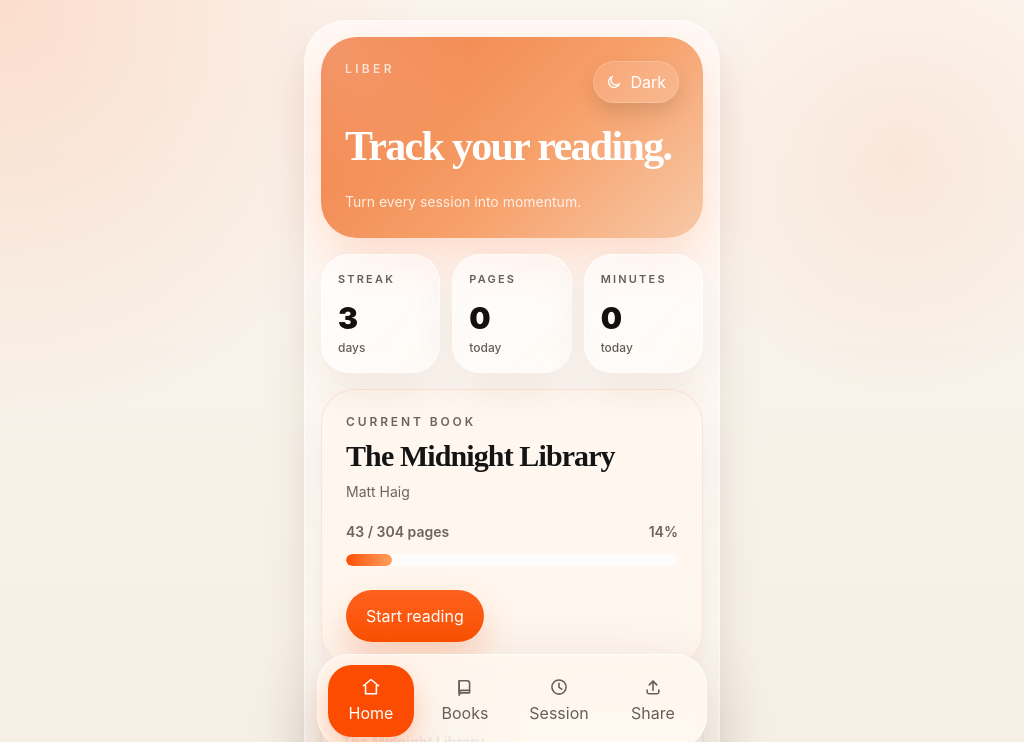
LiberApp core flow › shows the premium home hero subtitle and keeps summary stats on home only
Expected: the text "Turn every session into momentum." is shown, [345, 190, 605, 214]
Expected: the text "Streak" is shown, [338, 272, 395, 286]
What coordinates should you click on to do the following:
click the button "Books"
I would click on:
 (465, 701)
Its box is [422, 665, 508, 737].
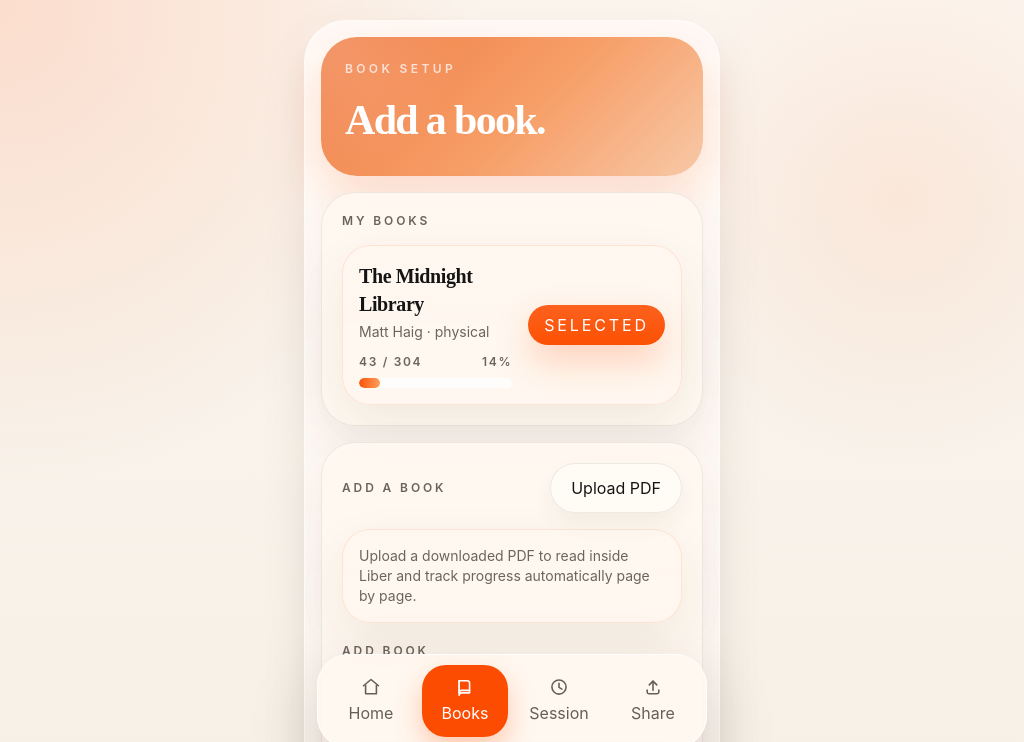
Expected: the text "Streak" is gone
Expected: the text "My Books" is shown, [342, 213, 430, 228]
